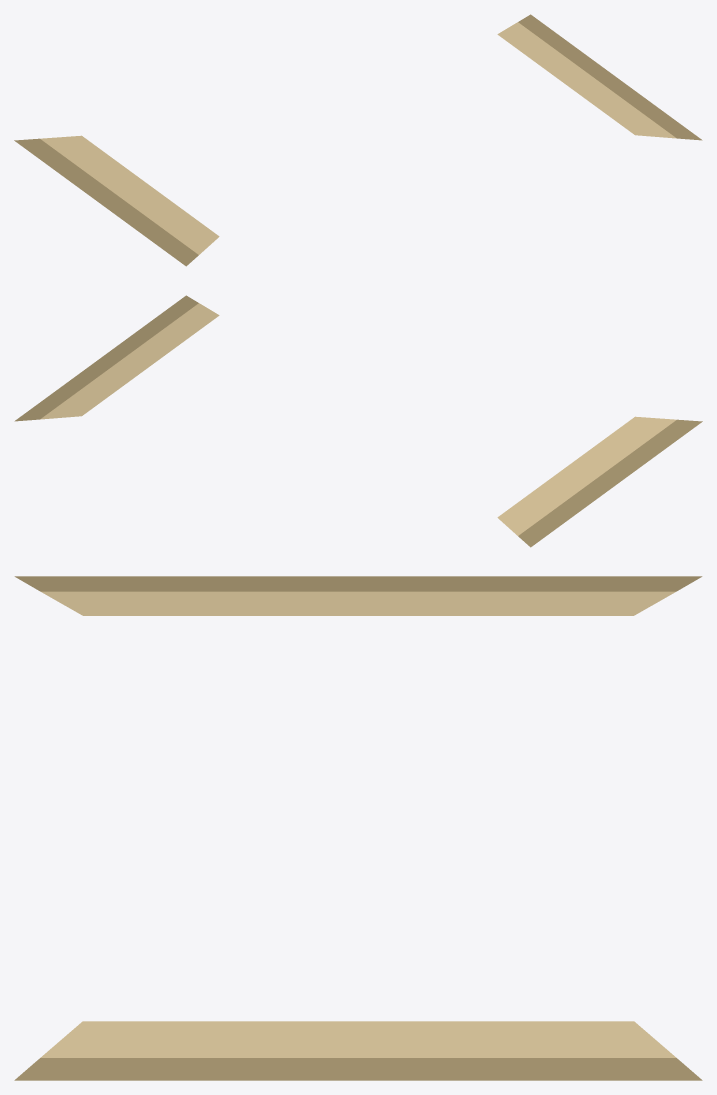
Rendered from SHORE_09.fbx.
3 renders of one model, top to bottom at view 1: azimuth 30°, elevation 25°; view 2: azimuth 150°, elevation 25°; view 3: azimuth 270°, elevation 25°, orthographic. The views are drawn at different scales.
Visible parts, largest first — view 1: Beach.009, Beach.008, Wet_sand.009, Wet_sand.008; view 2: Beach.009, Beach.008, Wet_sand.009, Wet_sand.008; view 3: Beach.008, Wet_sand.008, Beach.009, Wet_sand.009.
Boxes of the visible parts, left/top/right/bottom form: Beach.009: left=40, top=135, right=219, bottom=254; Beach.008: left=497, top=22, right=676, bottom=138; Wet_sand.009: left=14, top=138, right=198, bottom=266; Wet_sand.008: left=518, top=14, right=702, bottom=140; Beach.009: left=497, top=416, right=676, bottom=535; Beach.008: left=40, top=303, right=219, bottom=419; Wet_sand.009: left=518, top=419, right=702, bottom=547; Wet_sand.008: left=14, top=295, right=198, bottom=421; Beach.008: left=40, top=1021, right=676, bottom=1057; Wet_sand.008: left=14, top=1058, right=702, bottom=1080; Beach.009: left=41, top=591, right=675, bottom=615; Wet_sand.009: left=14, top=576, right=702, bottom=591.
Size of the model in its own units: 173 by 1.6 by 100.
